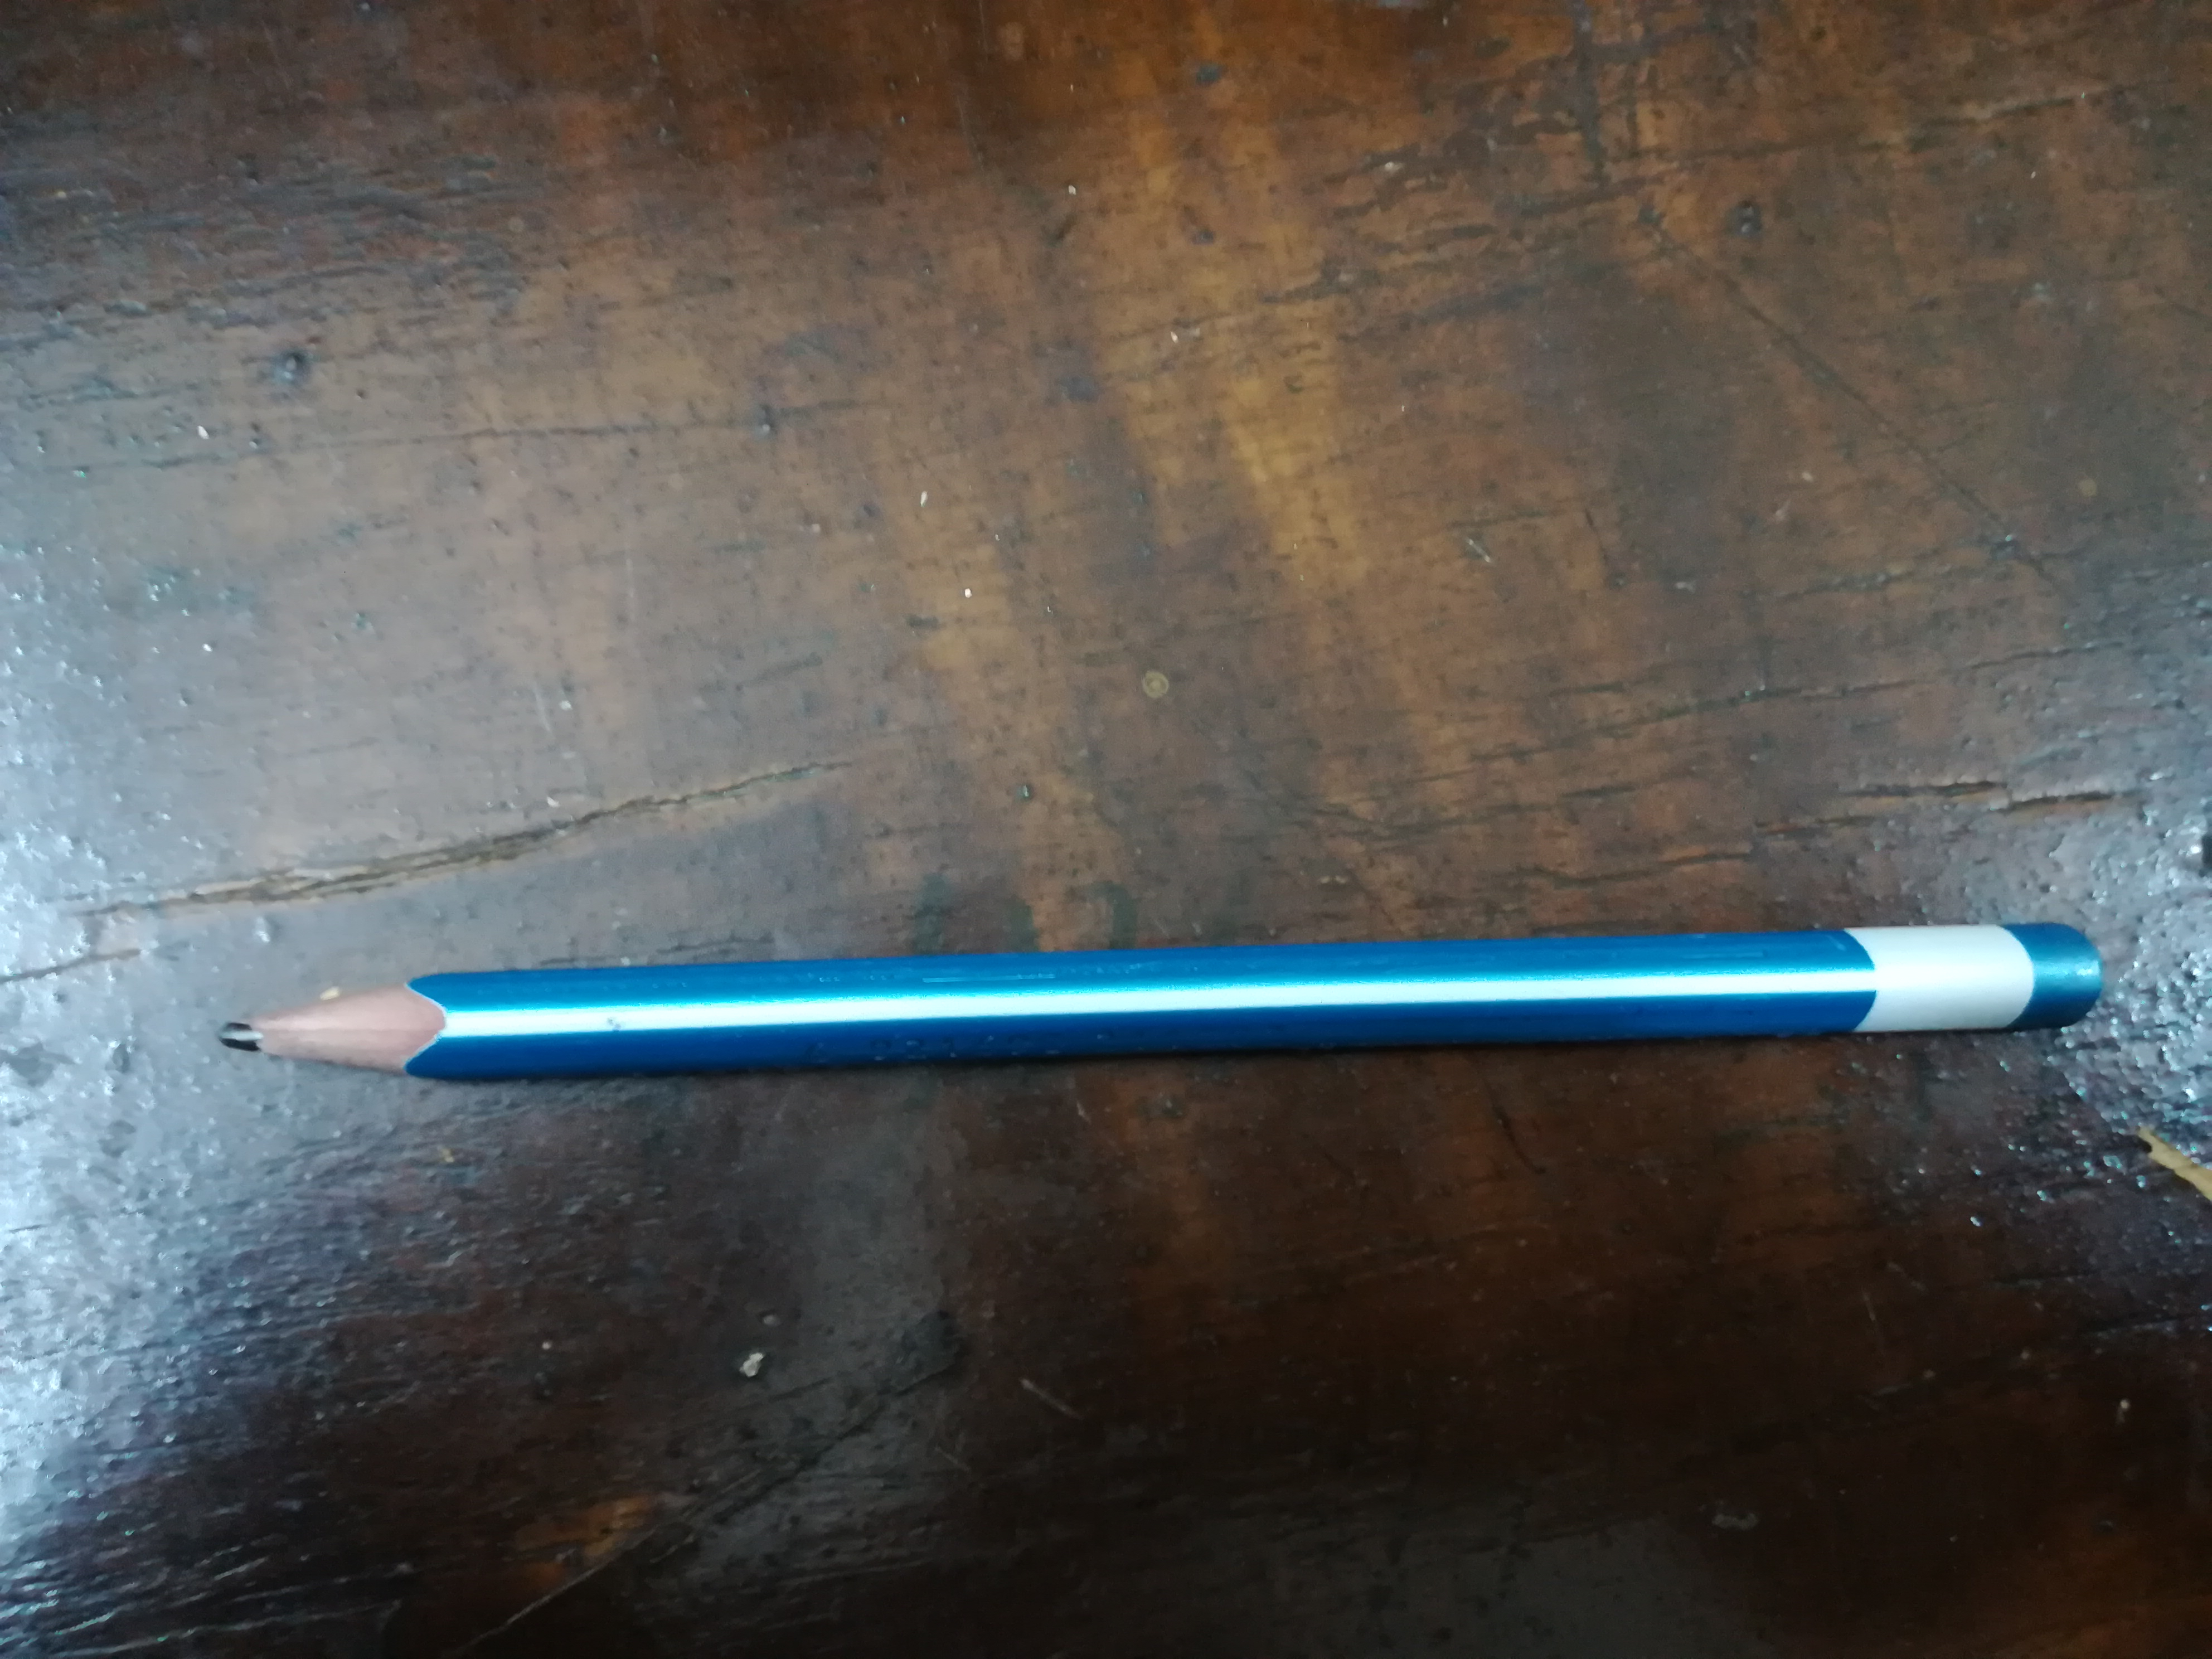pen_tip: (181, 945, 524, 1131)
